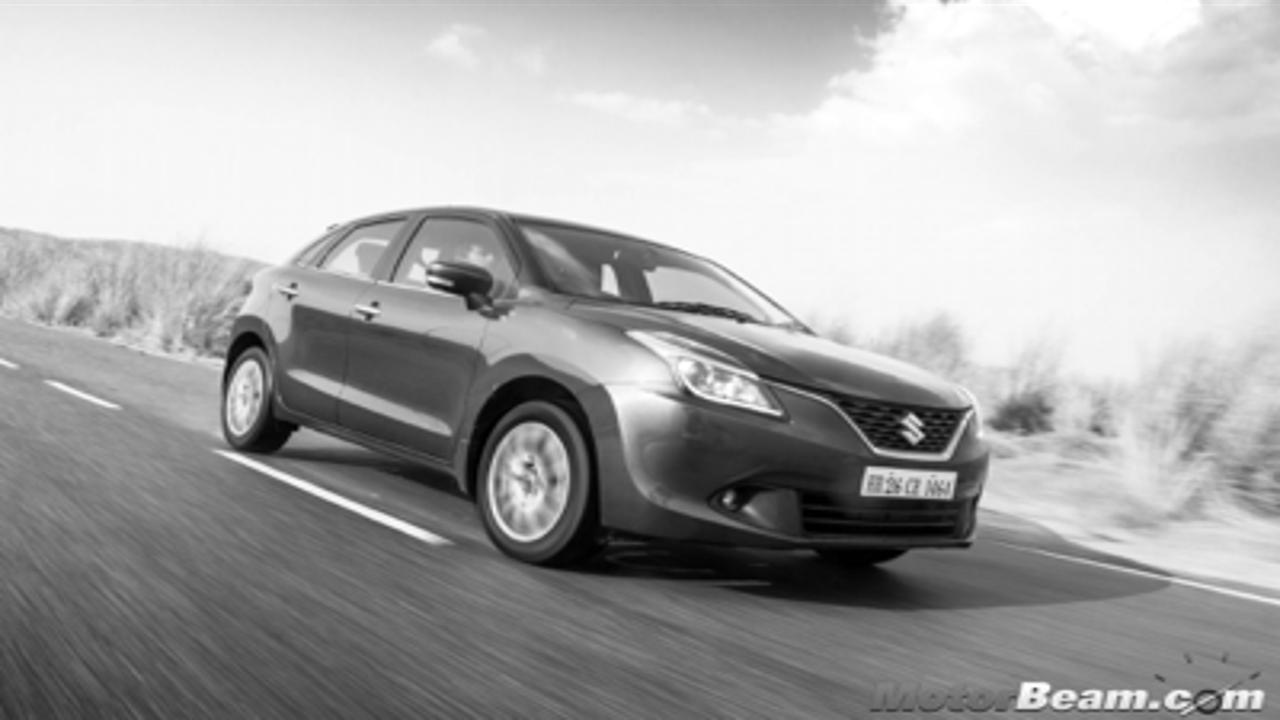license: (853, 456, 961, 508)
